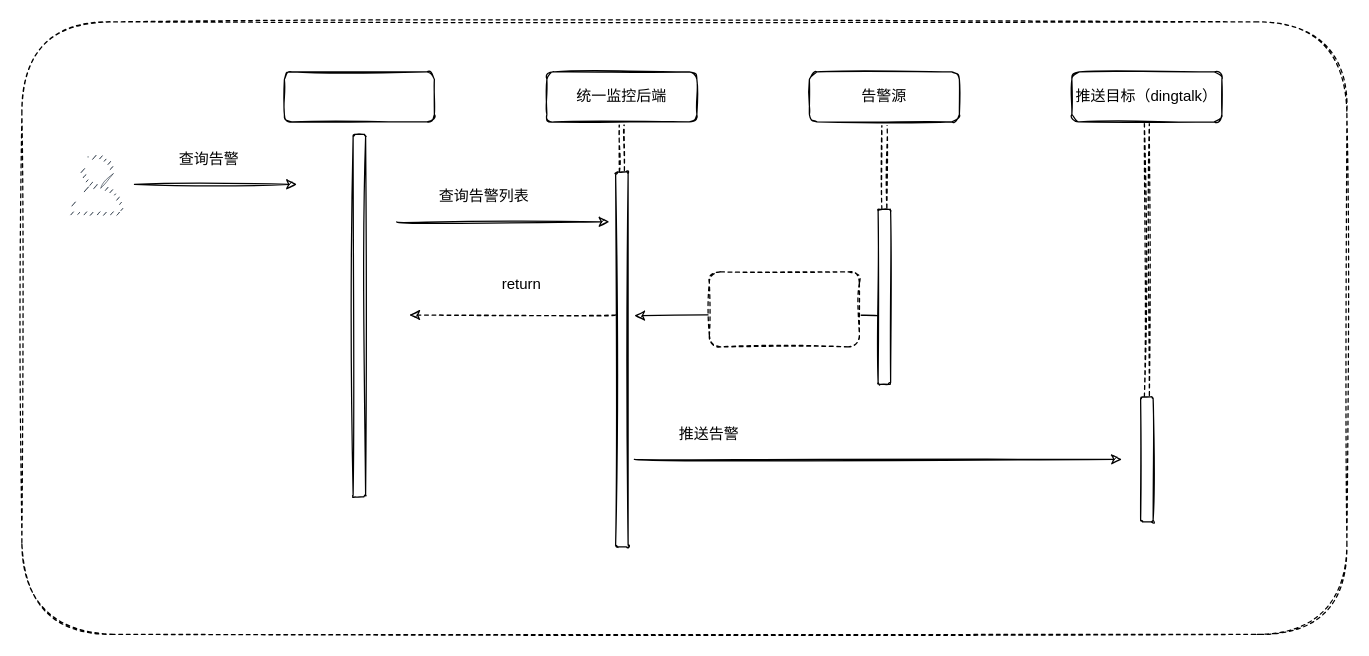
Some shapes in this 1369 by 656 pixel diagram are drawn without their labels. Here are the shapes that lost their labels. From the top down, the centre of each, then its label:
At pixel 358 96: "WEB".
At pixel 96 184: "User".
